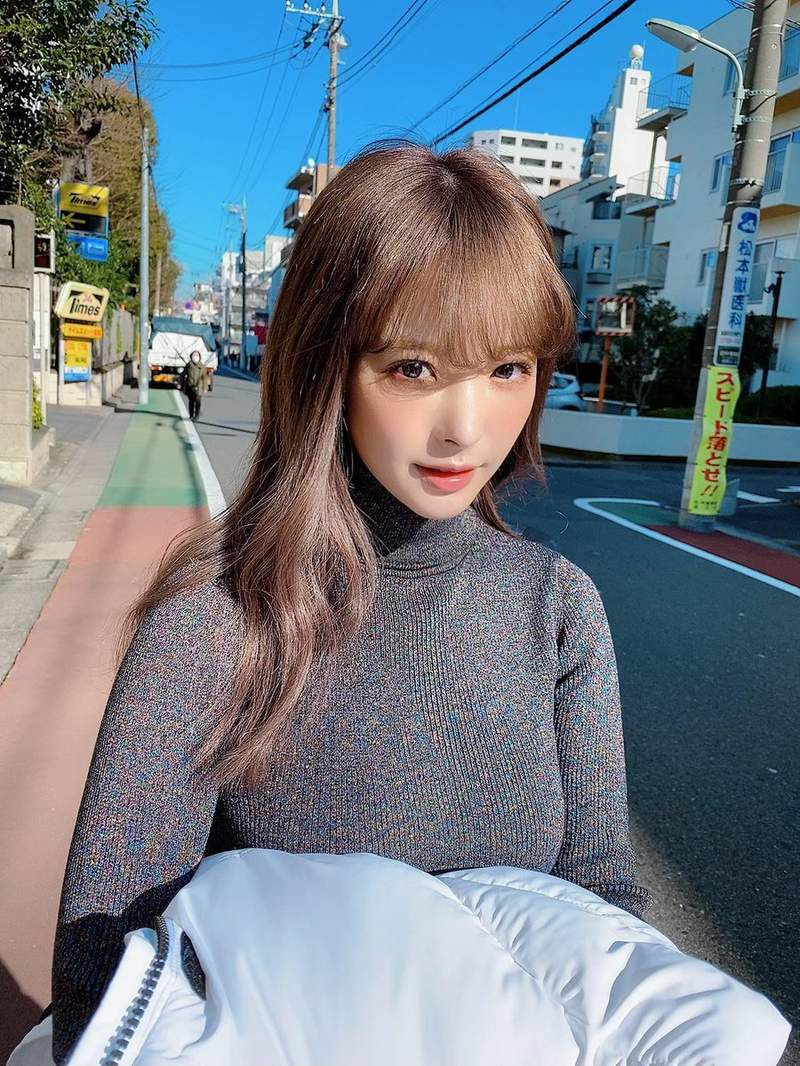people: (228, 131, 578, 926)
